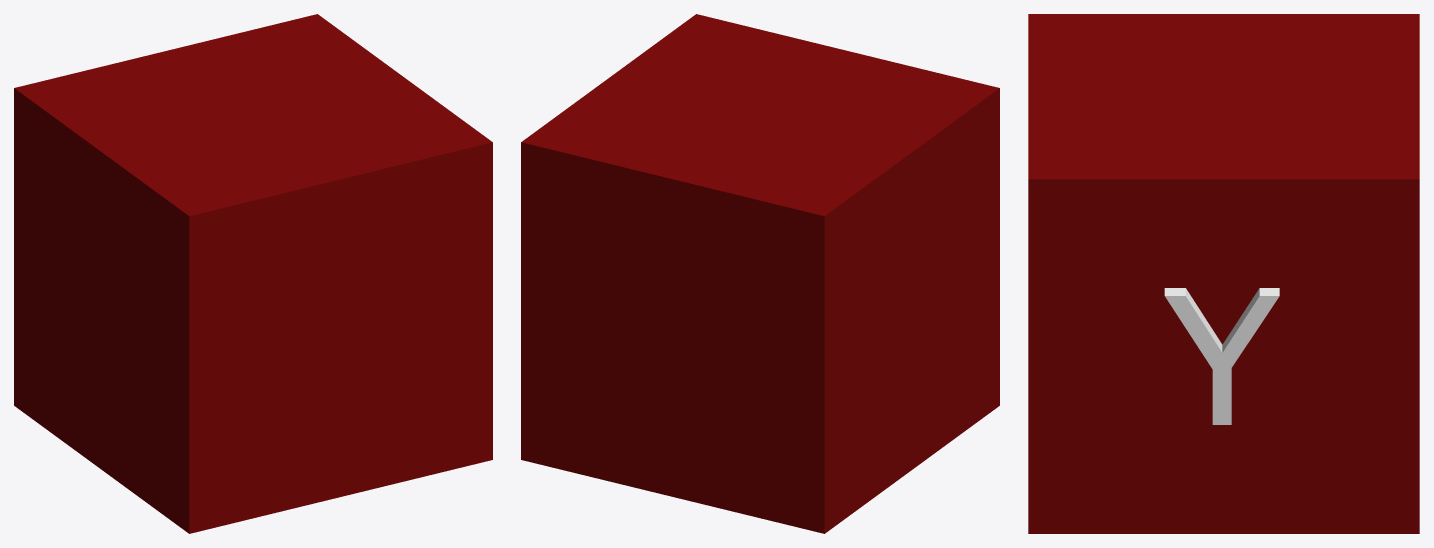
3 renders of one model, left to right at view 1: azimuth 30°, elevation 25°; view 2: azimuth 150°, elevation 25°; view 3: azimuth 270°, elevation 25°, orthographic. The views are drawn at different scales.
Visible parts, largest first — view 1: SketchUp; view 2: SketchUp; view 3: SketchUp, Y.
Boxes of the visible parts, bbox=[...] form: SketchUp: bbox=[14, 14, 492, 533]; SketchUp: bbox=[521, 14, 999, 533]; SketchUp: bbox=[1028, 14, 1419, 533]; Y: bbox=[1164, 288, 1279, 424].
Bounding box in the file's own units: 21 × 20 × 20.
